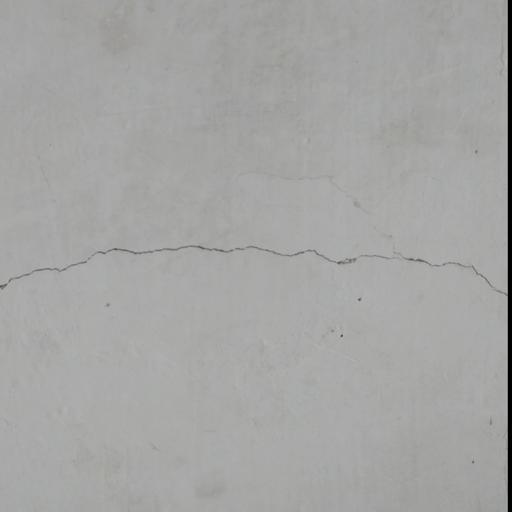minor_crack: (0, 237, 512, 303)
